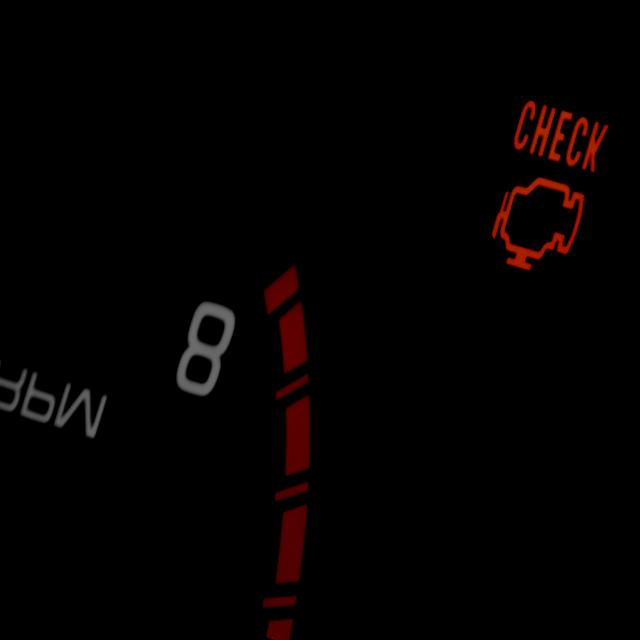kontrolka: (466, 81, 632, 298)
